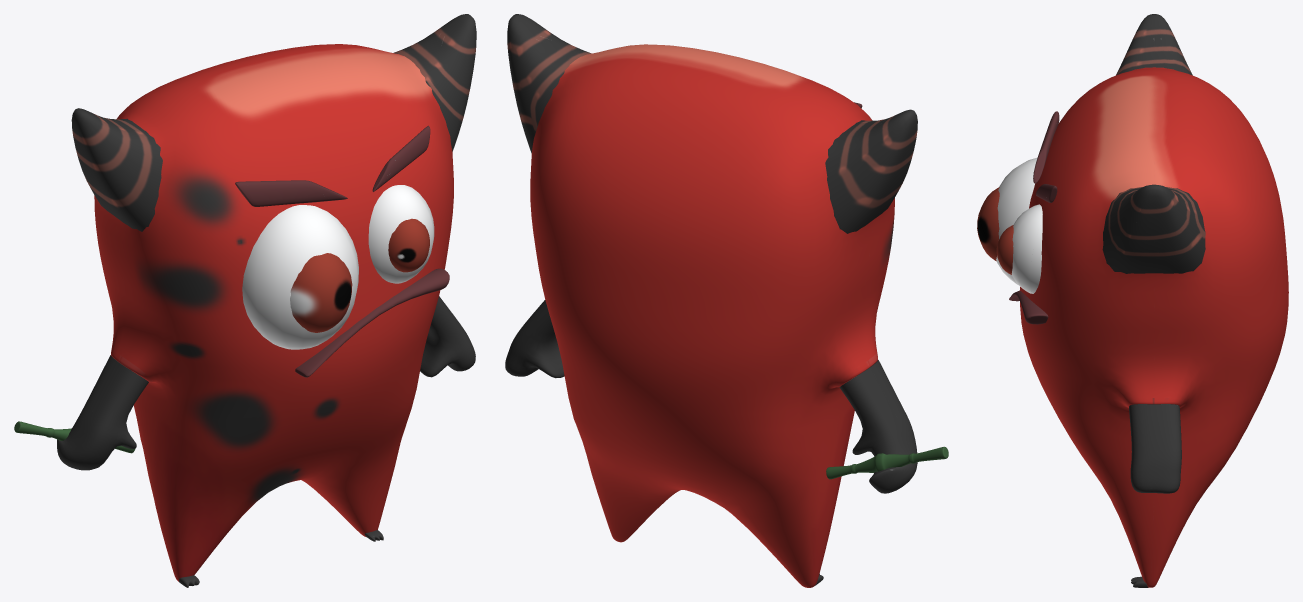
Rendered from monster_four.fbx.
The picture shows the model from 3 angles, left to right: view 1: azimuth 30°, elevation 25°; view 2: azimuth 150°, elevation 25°; view 3: azimuth 270°, elevation 25°; orthographic projection. The views are drawn at different scales.
Parts seen in each view (by area): view 1: Roundcube, Roundcube.001, Sphere, Roundcube.003, Sphere.002, Sphere.001, Cube.001, Cube, Sphere.003, Cube.002, Cube.005; view 2: Roundcube, Roundcube.001, Roundcube.003, Cube.005; view 3: Roundcube, Roundcube.001, Roundcube.003, Sphere.001, Sphere, Sphere.002, Cube.001, Sphere.003, Cube.
Part boxes in pixels (x1,y1,x2,y2): Roundcube: (94, 44, 453, 581); Roundcube.001: (71, 14, 476, 231); Sphere: (242, 205, 358, 349); Roundcube.003: (57, 296, 475, 470); Sphere.002: (290, 253, 352, 332); Sphere.001: (368, 185, 434, 283); Cube.001: (235, 180, 347, 206); Cube: (295, 268, 449, 377); Sphere.003: (388, 218, 429, 272); Cube.002: (372, 125, 430, 191); Cube.005: (14, 421, 135, 453); Roundcube: (530, 44, 894, 587); Roundcube.001: (507, 14, 917, 233); Roundcube.003: (505, 300, 917, 493); Cube.005: (826, 446, 948, 479); Roundcube: (1019, 67, 1288, 587); Roundcube.001: (1102, 14, 1205, 273); Roundcube.003: (1129, 404, 1181, 493); Sphere.001: (1011, 204, 1042, 293); Sphere: (996, 157, 1037, 284); Sphere.002: (977, 187, 999, 261); Cube.001: (1033, 111, 1059, 183); Sphere.003: (996, 225, 1013, 274); Cube: (1009, 290, 1048, 324).
Bounding box in the file's own units: 153 × 163 × 104.
